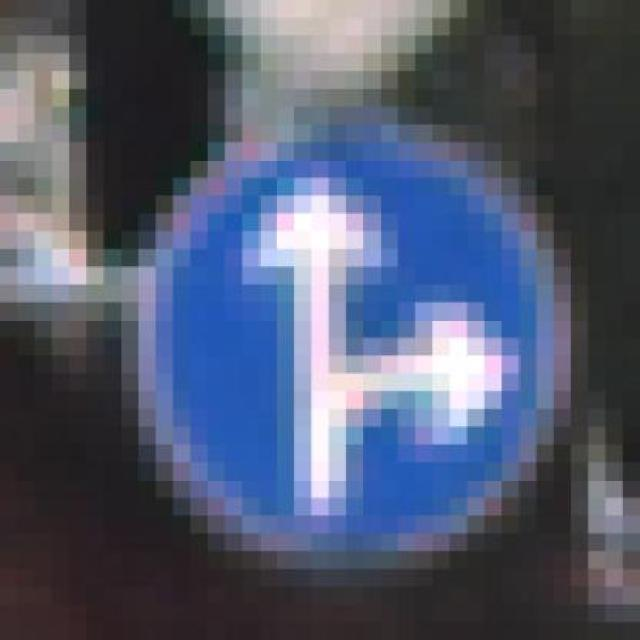Go Straight or Turn Right: (86, 106, 588, 569)
